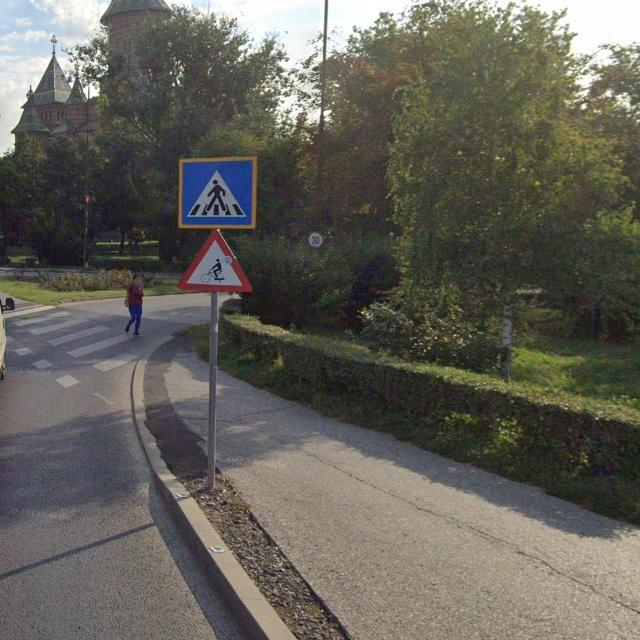forb_speed_over_30: (308, 231, 325, 249)
info_crosswalk: (178, 158, 256, 227)
